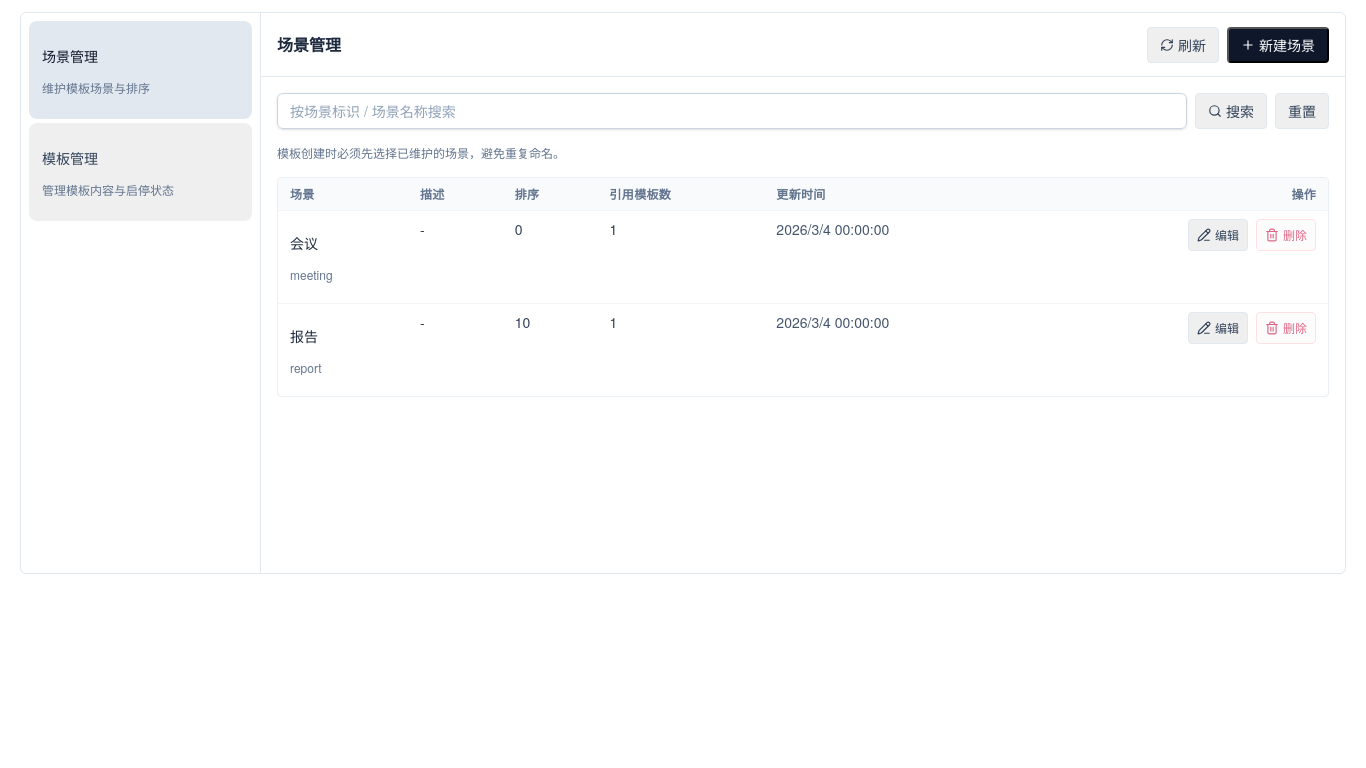
AdminDocumentTemplatesPage › searches, refreshes and resets with expected keyword
This screenshot has width=1366, height=768.
Click the button "模板管理 管理模板内容与启停状态" at (140, 172), box [29,123,252,221]
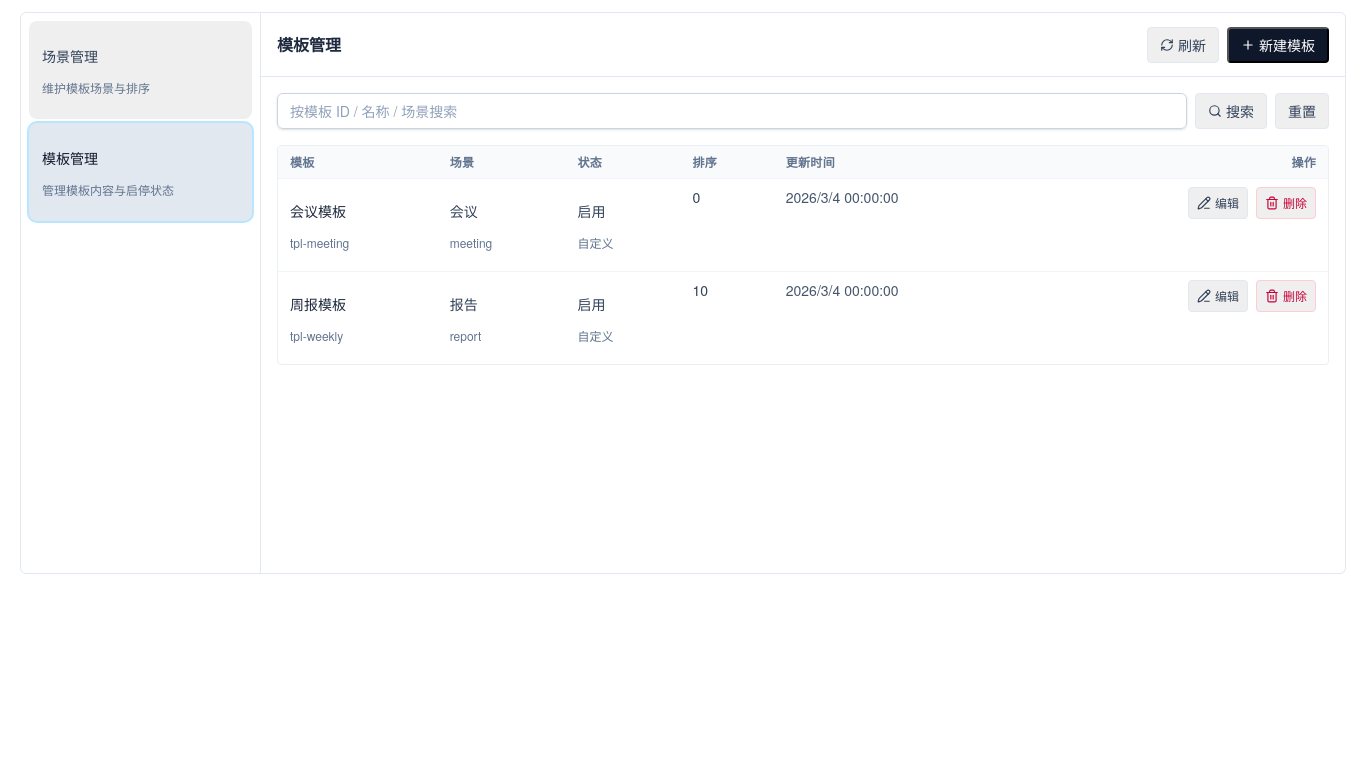
Expected: the text "周报模板" is shown, [290,294,346,314]
Type "  meeting  " into the field with placeholder "按模板 ID / 名称 / 场景搜索" at (732, 111), box [277,93,1187,129]
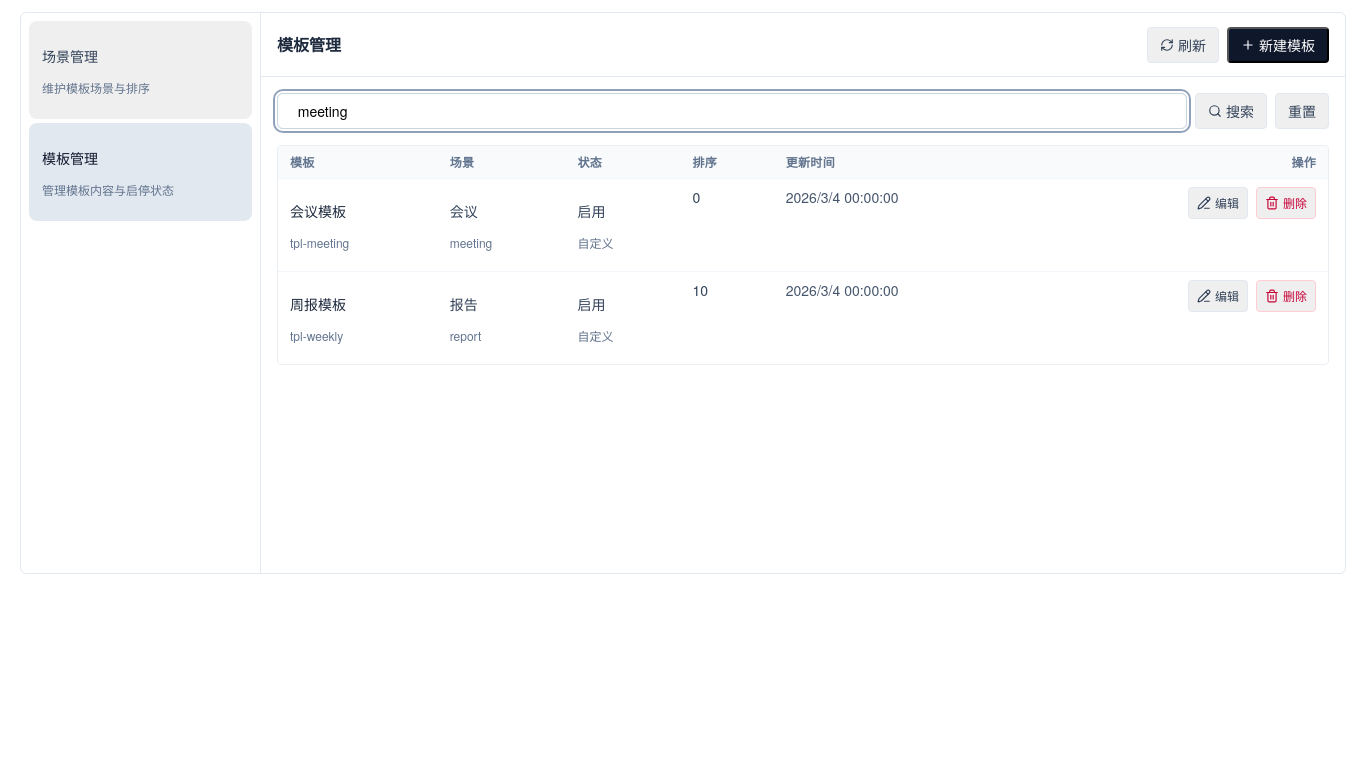
Click the button "搜索" at (1231, 111), box [1195,93,1267,129]
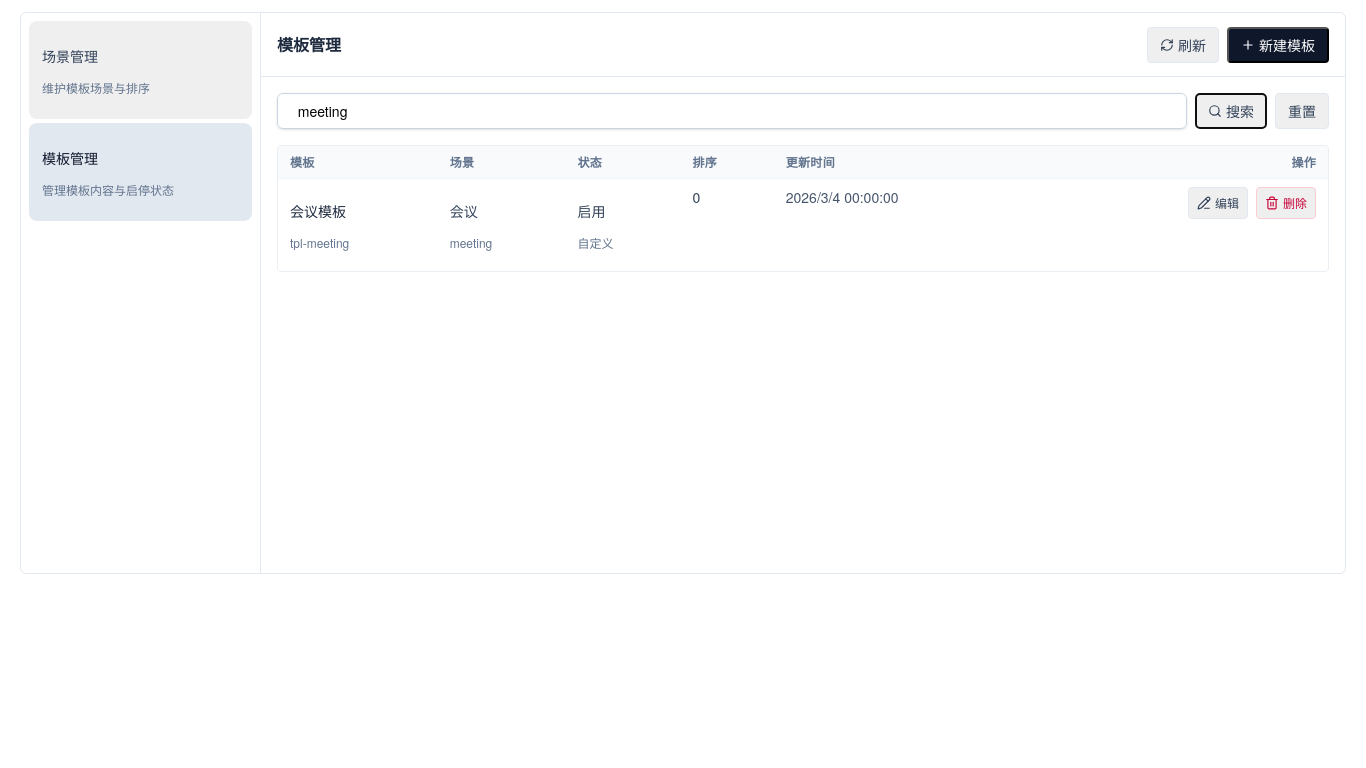
Expected: the text "会议模板" is shown, [290,201,346,221]
Expected: the text "周报模板" is gone
Click the button "刷新" at (1183, 44), box [1147,26,1219,62]
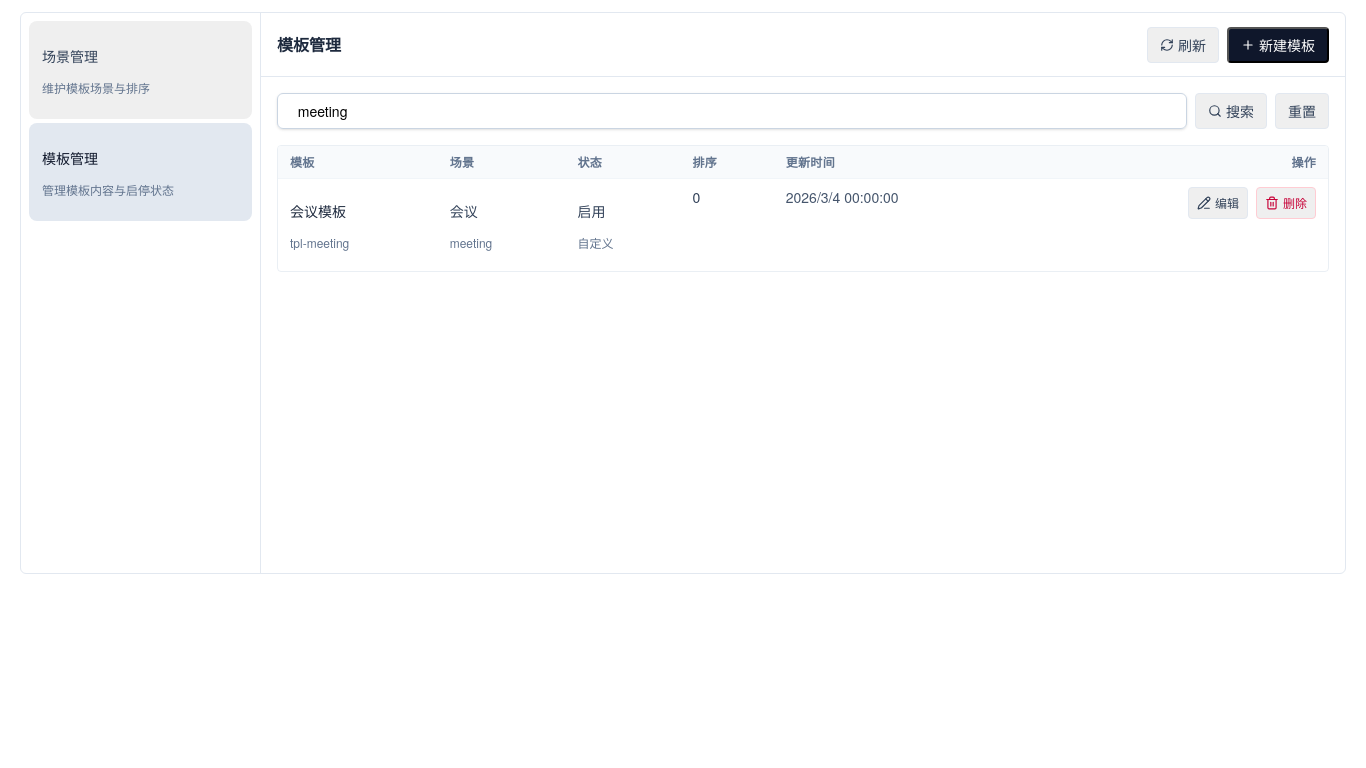
Click the button "重置" at (1302, 111), box [1275,93,1329,129]
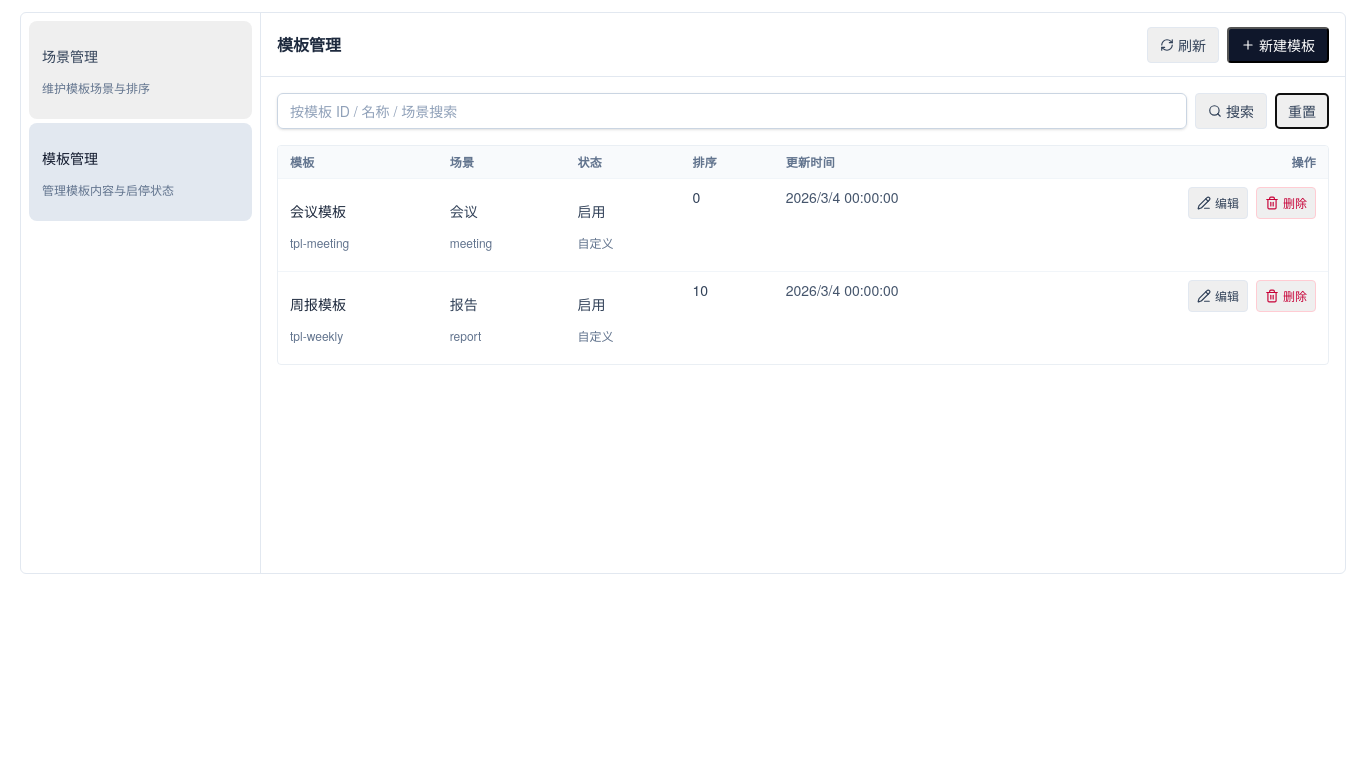
Expected: the field with placeholder "按模板 ID / 名称 / 场景搜索" is empty, [277,93,1187,129]
Expected: the text "周报模板" is shown, [290,294,346,314]
